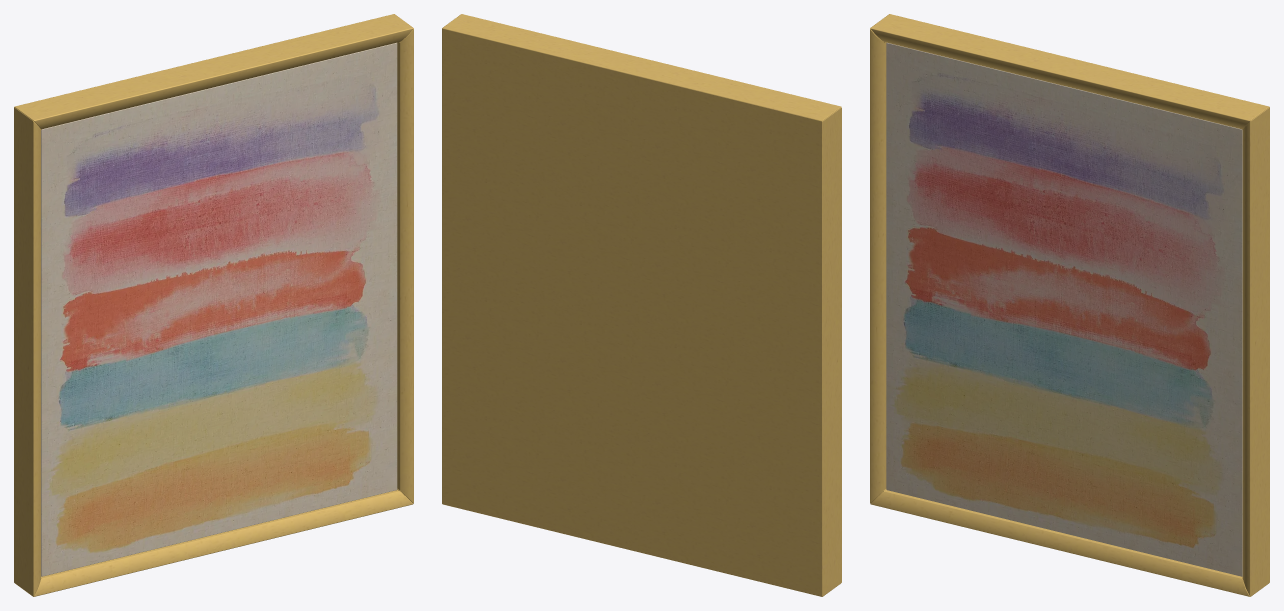
The model's file is abo-B07HSGP5Q5.glb.
3 renders of one model, left to right at view 1: azimuth 30°, elevation 25°; view 2: azimuth 150°, elevation 25°; view 3: azimuth 330°, elevation 25°, orthographic.
Bounding box in the file's own units: 0.537 × 0.642 × 0.048.
Materials: 1 (1 with a texture image).
